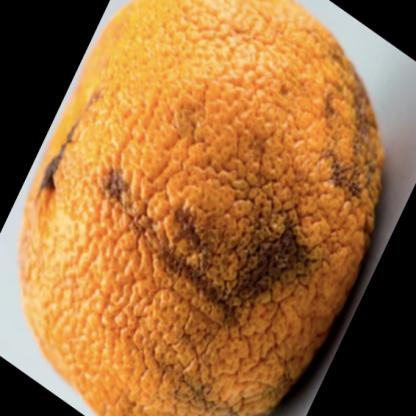rotten: (19, 1, 382, 405)
